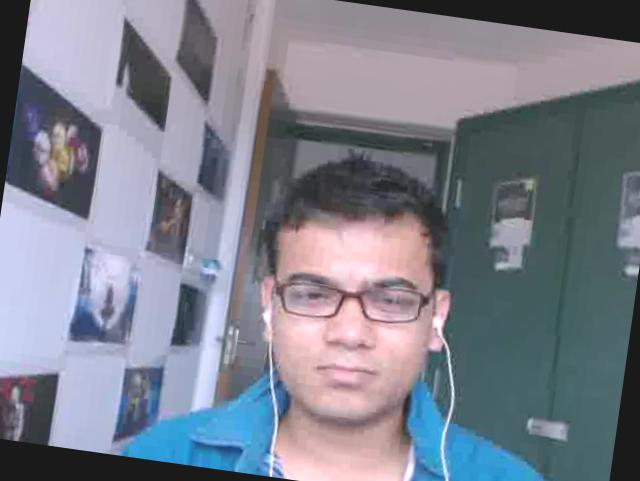bosan: (259, 206, 442, 424)
